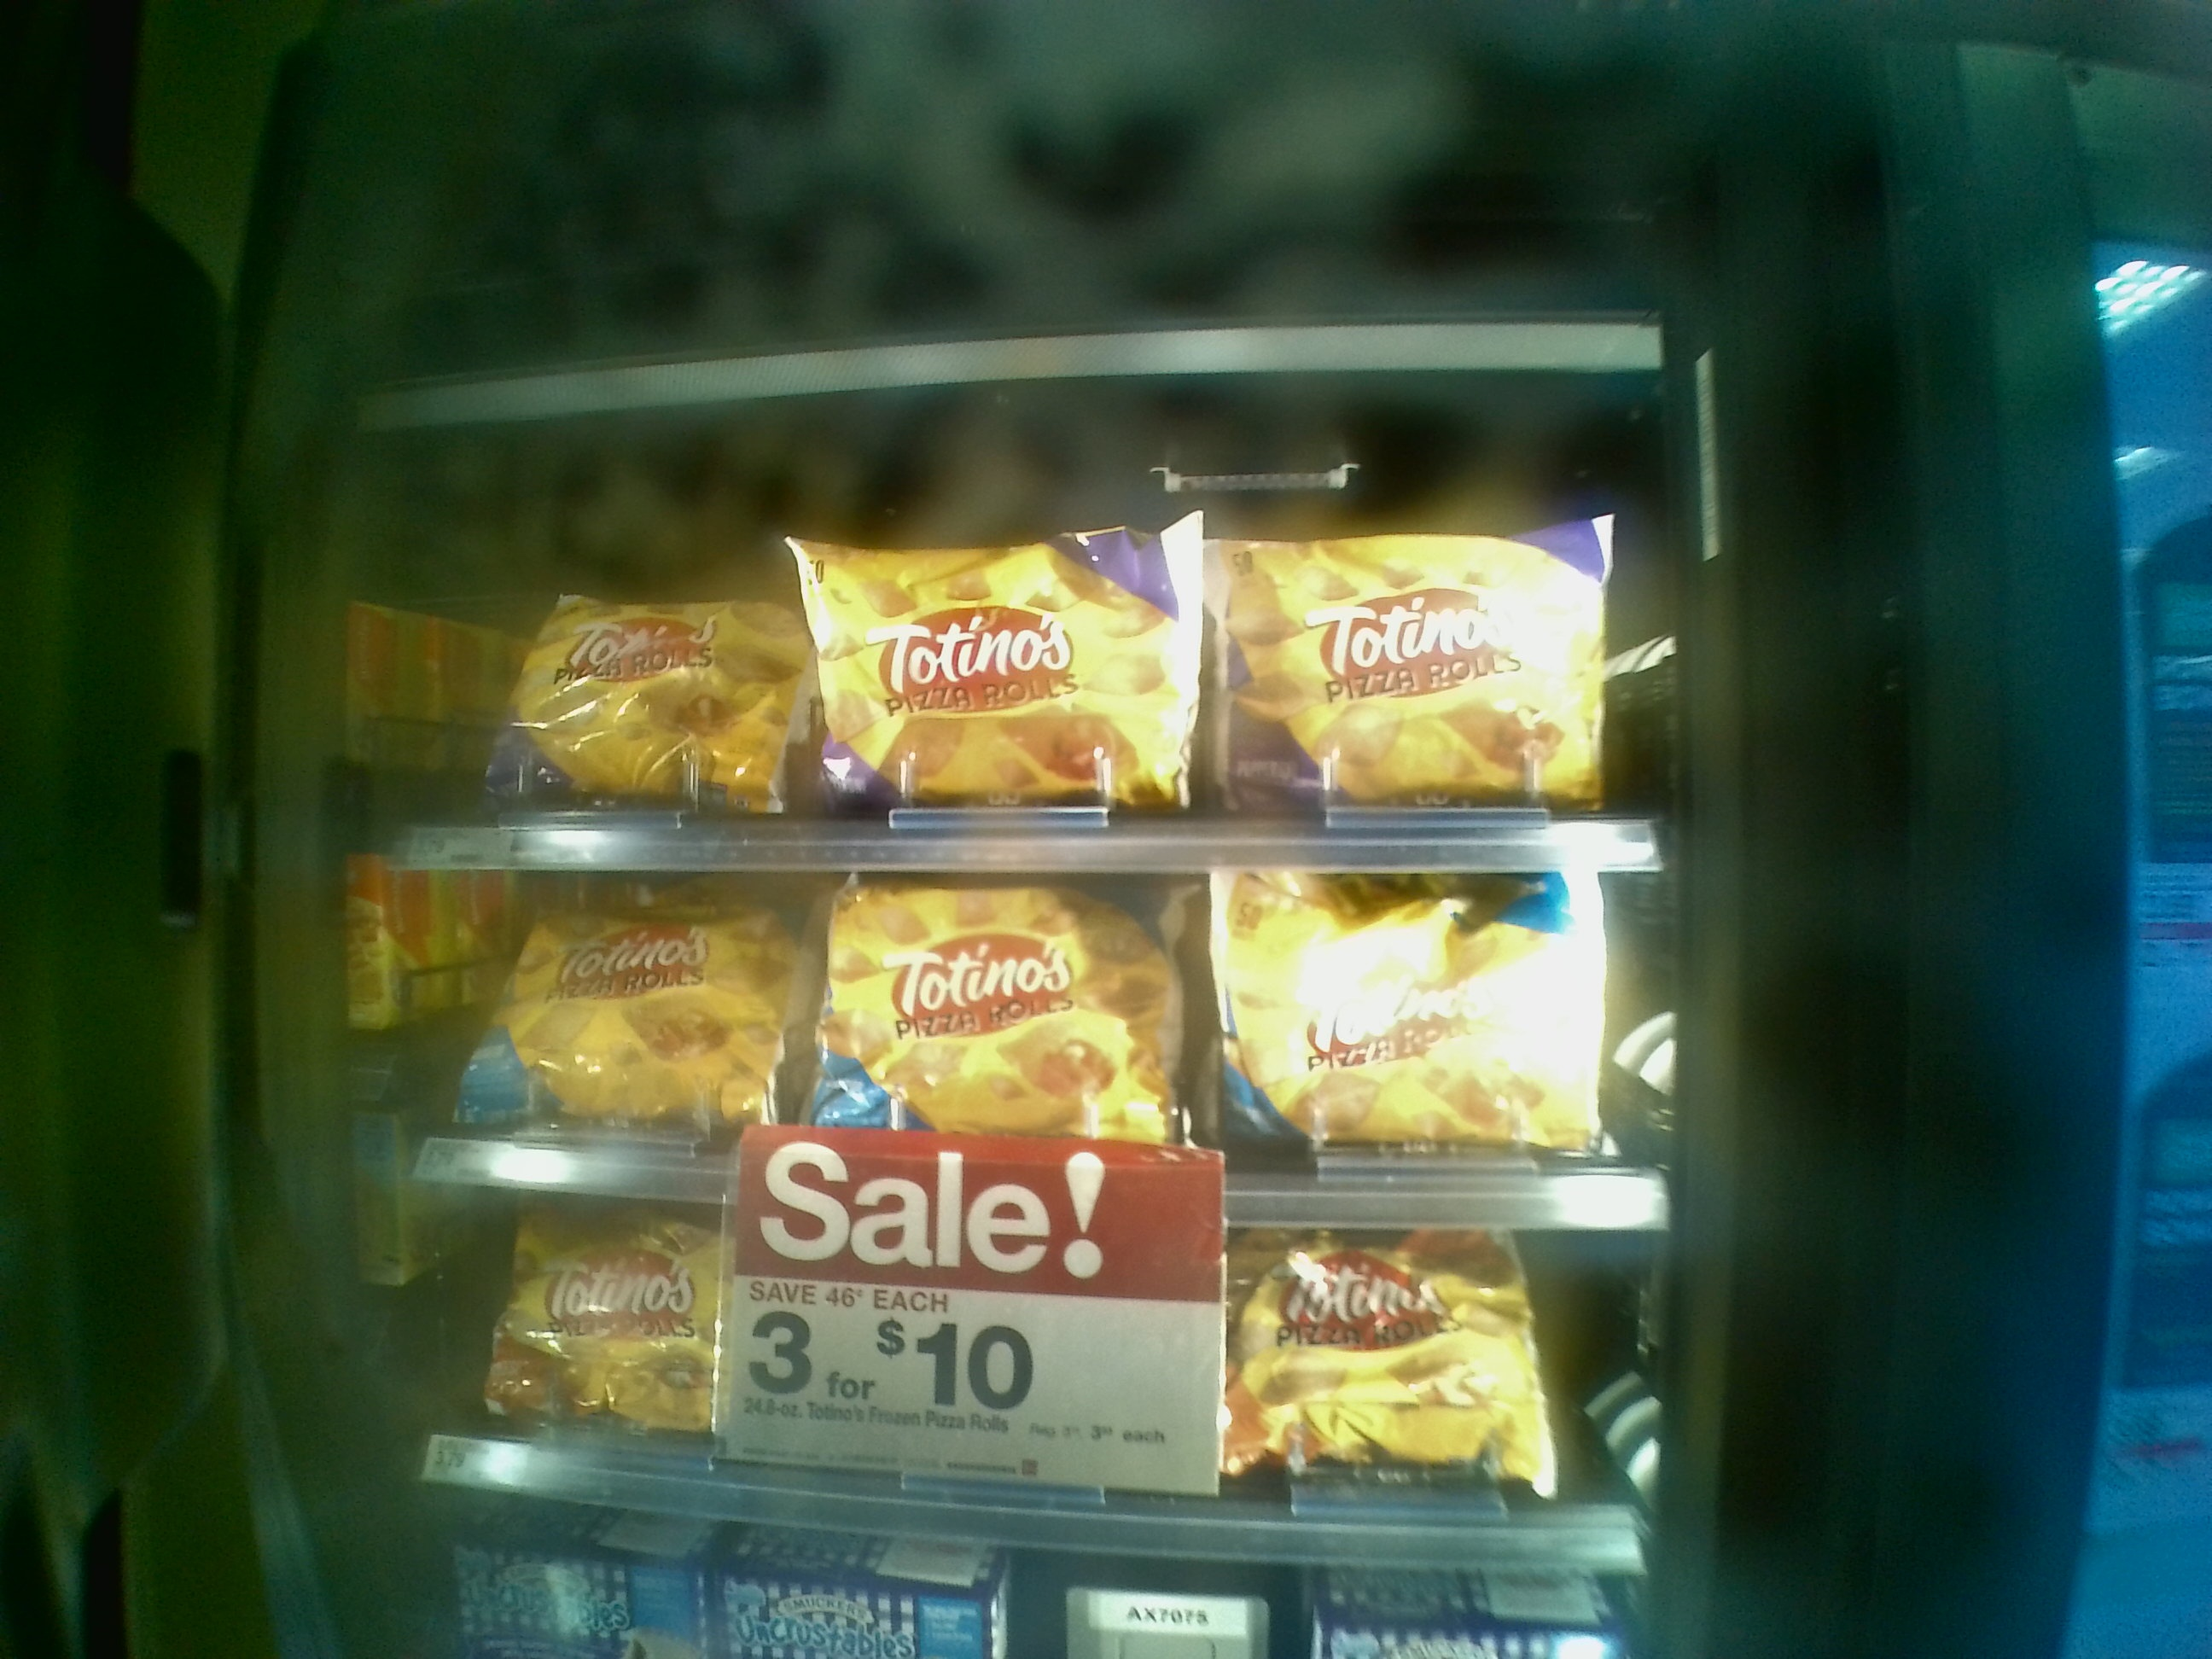shelf: (449, 1169, 1634, 1567), (427, 856, 1655, 1230), (455, 507, 1649, 877)
